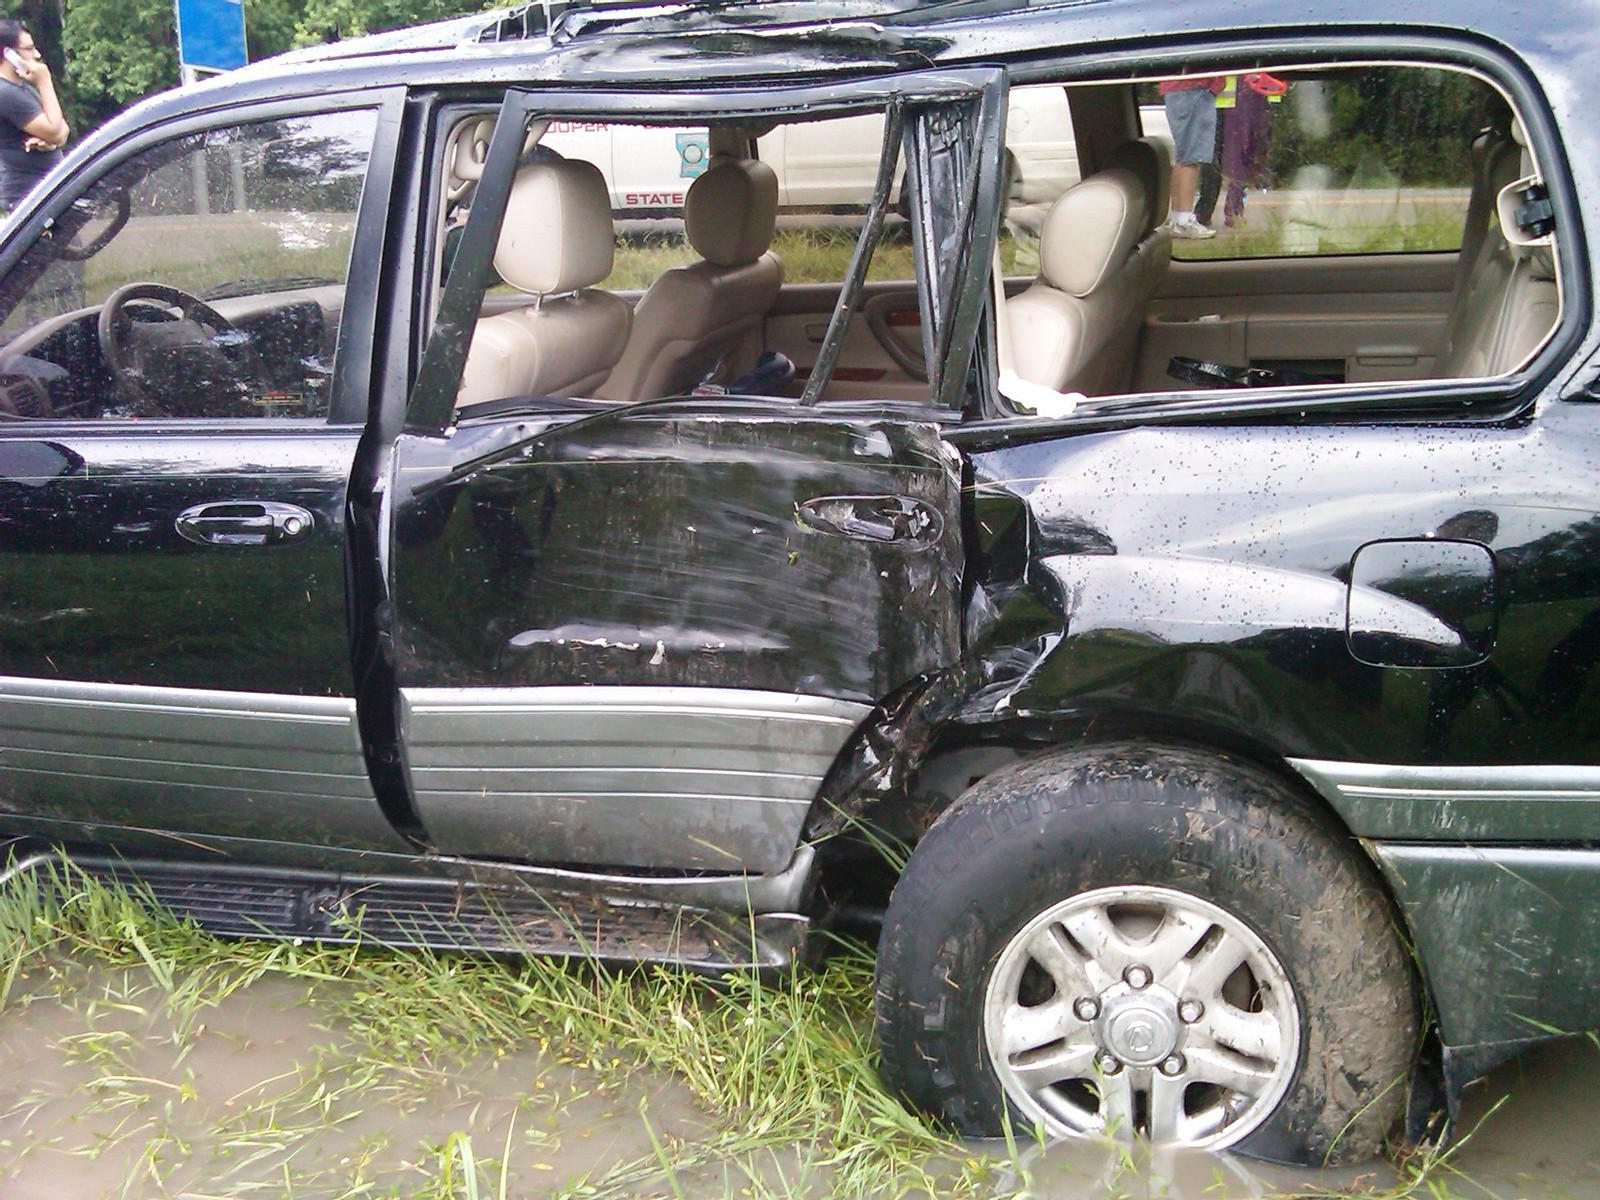doorouter-dent: (421, 363, 973, 906)
roof-dent: (275, 10, 1450, 93)
